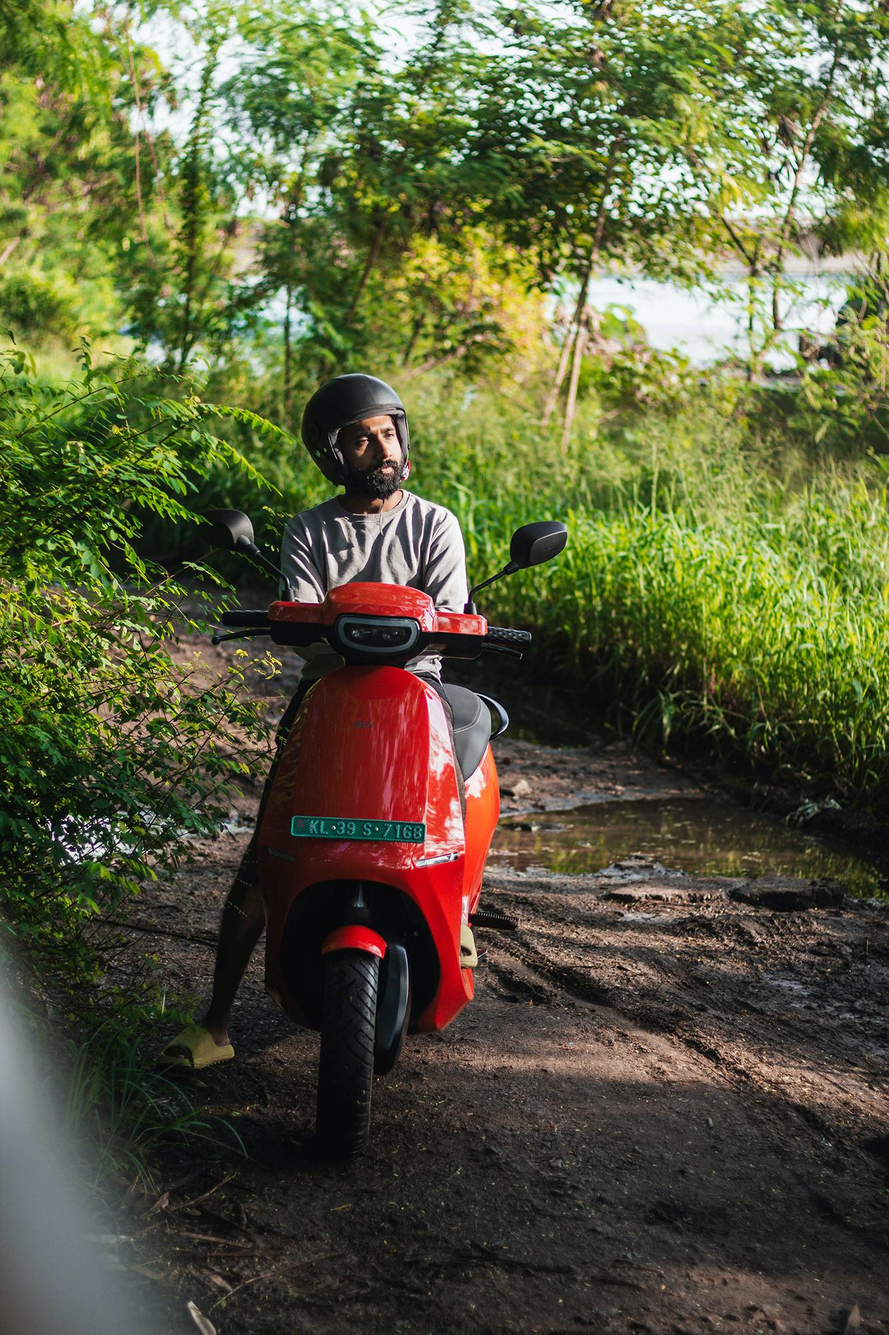helmet: (300, 372, 412, 501)
